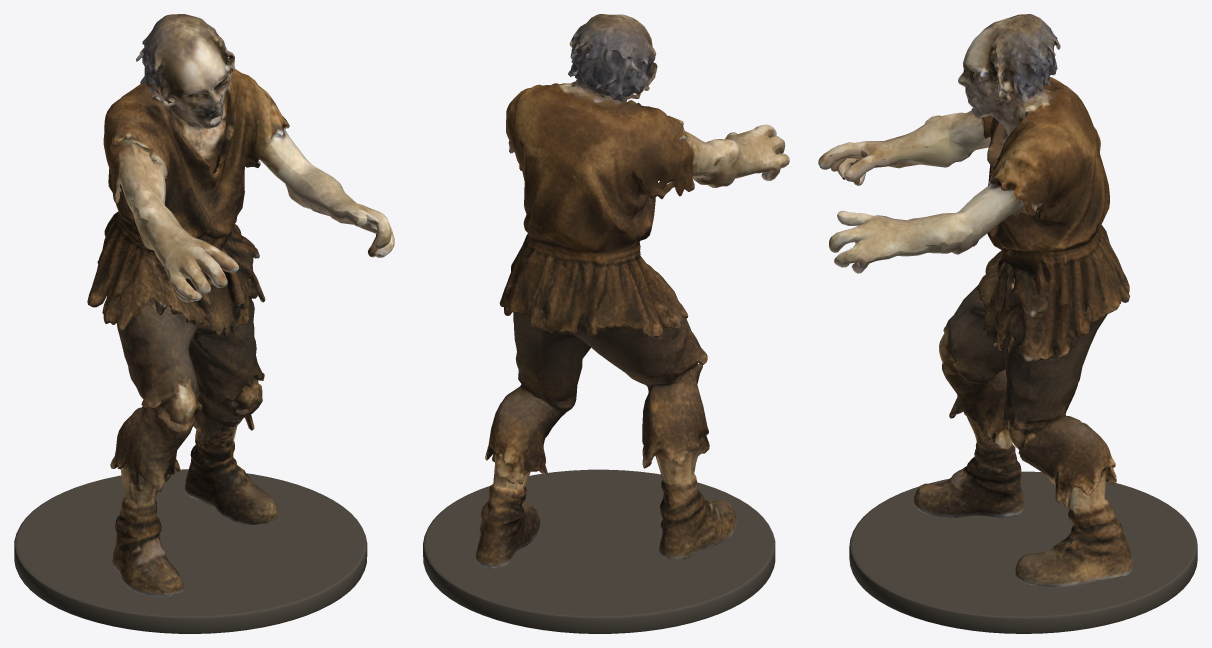
Rendered from zombie.glb.
3 views of the same model, side by side, from view 1: azimuth 30°, elevation 25°; view 2: azimuth 150°, elevation 25°; view 3: azimuth 270°, elevation 25° (orthographic).
Parts seen in each view (by area): view 1: zombie_body, zombie_round_base; view 2: zombie_body, zombie_round_base; view 3: zombie_body, zombie_round_base.
Part boxes in pixels (box(x1,y1,x2,y2)): zombie_body: box(87, 14, 394, 596); zombie_round_base: box(14, 469, 367, 633); zombie_body: box(475, 14, 789, 568); zombie_round_base: box(423, 469, 775, 633); zombie_body: box(818, 14, 1133, 587); zombie_round_base: box(849, 471, 1197, 633).
Size of the model in its own units: 1 by 1.71 by 1.09.
2 materials, 1 textured.
